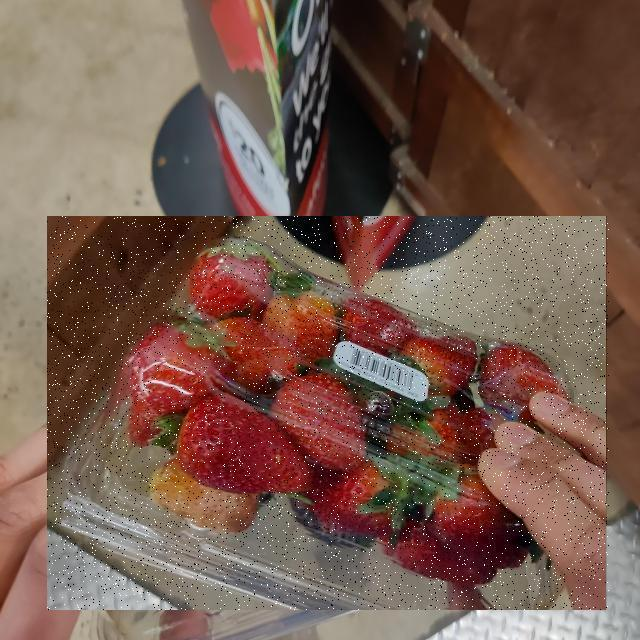Straw Berry: (48, 216, 610, 610)
